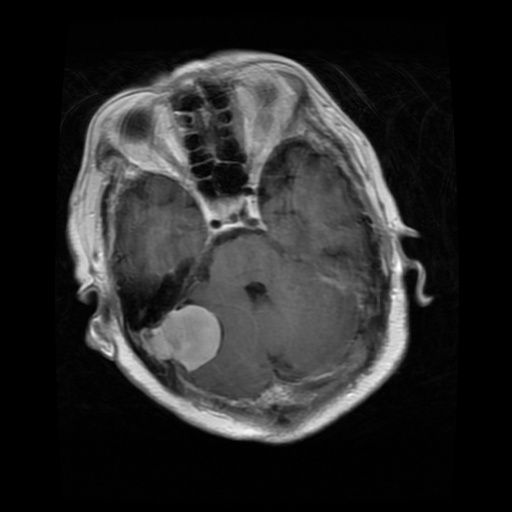meningioma: (139, 304, 221, 372)
